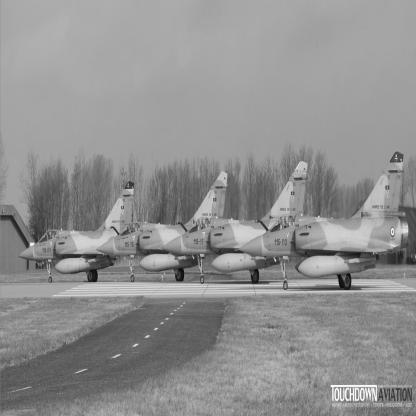Mirage2000: (235, 152, 409, 291), (158, 162, 309, 285), (93, 171, 229, 283), (16, 182, 136, 284)
